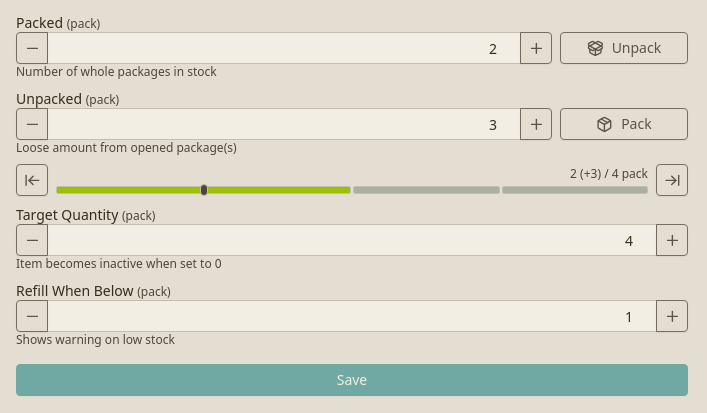
Test: ItemForm — stock tab steppers step by the Constraint-4 increment › user steps Target by 1 in package mode, not by consumeAmount
Click the button named "Increase target quantity" at (672, 240), box [656,224,688,256]
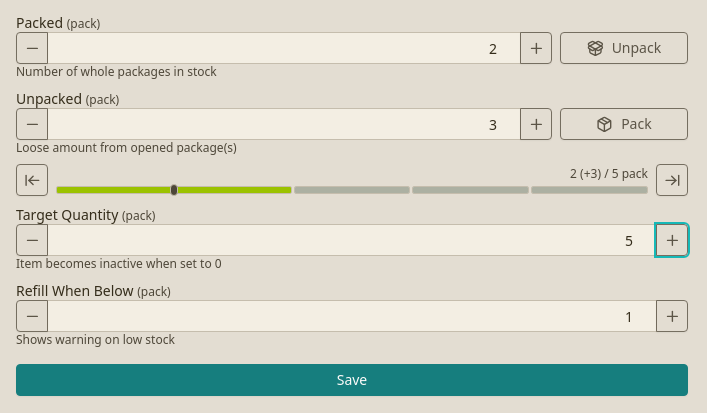
Result: the number field labelled "Target Quantity (pack)" holds "5" at [47,224,657,256]
